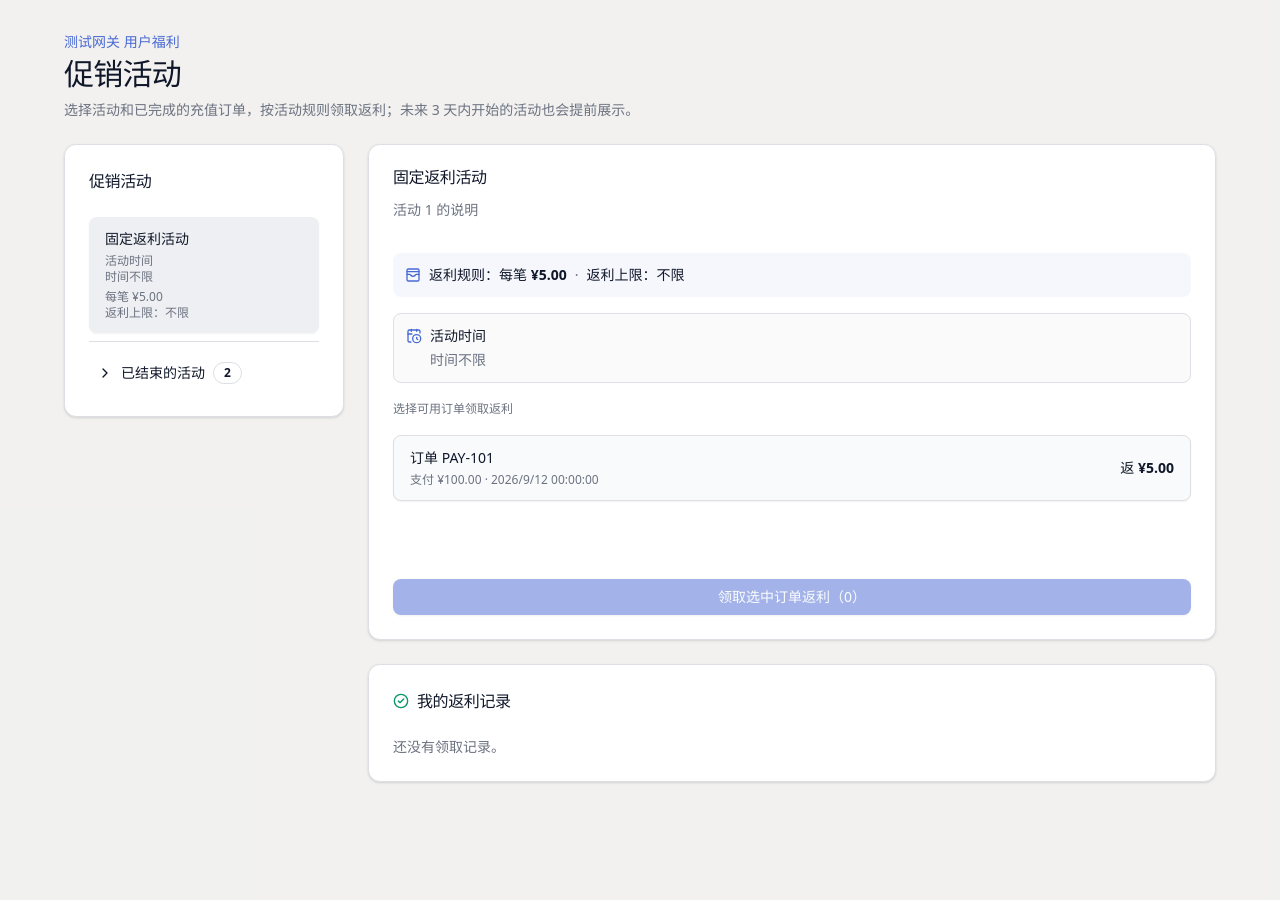
促销活动切换 › 默认折叠已结束活动，并按结束时间倒序展示
Expected: the button "最近结束活动" is not shown
What coordinates should you click on to do the following:
click the button "已结束的活动 2"
I would click on:
 (204, 373)
Its box is top-left (89, 354), bottom-right (319, 392).
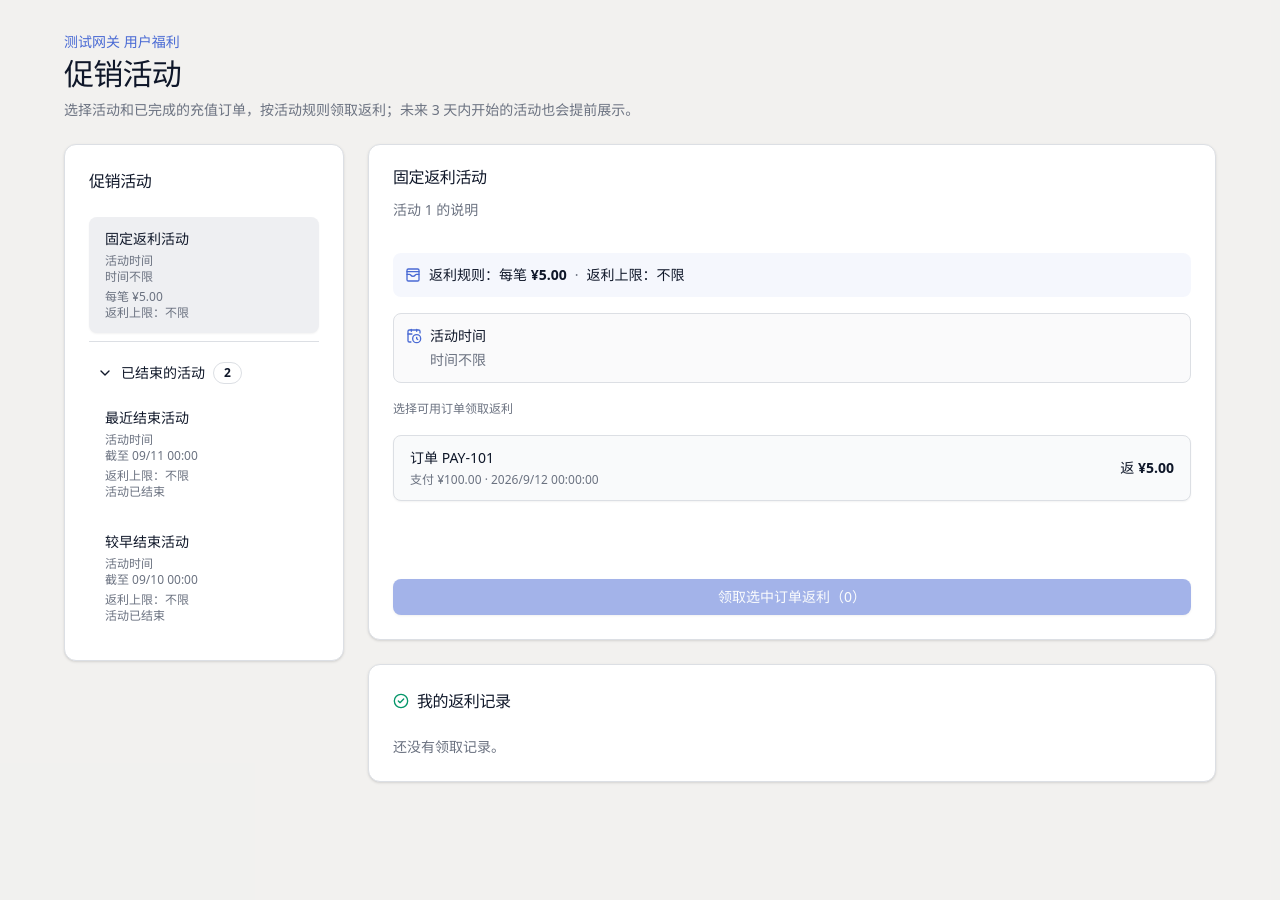
Now the button "已结束的活动 2" is expanded, box top-left (89, 354), bottom-right (319, 392)
